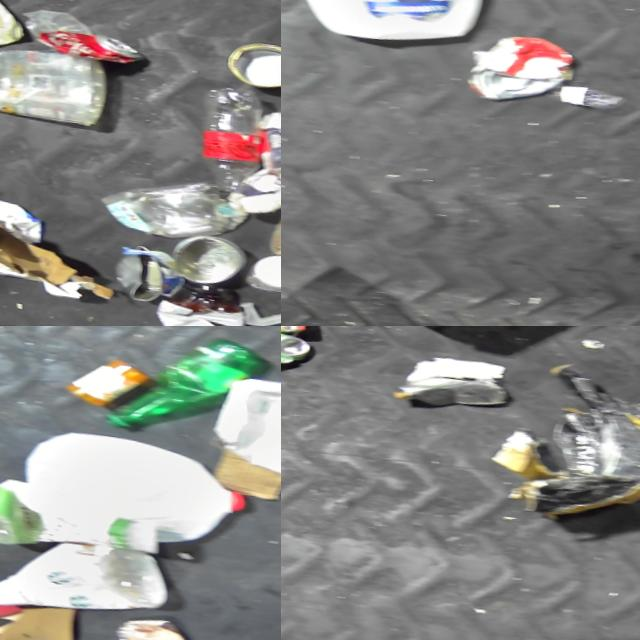can: (462, 29, 579, 112), (393, 363, 510, 419), (64, 352, 151, 416), (164, 232, 246, 290), (34, 25, 140, 67), (0, 470, 54, 550), (109, 244, 172, 308), (281, 326, 312, 377)
milk_jug: (13, 425, 254, 563), (0, 527, 174, 627), (293, 0, 493, 56)
plastic_bottle: (97, 326, 259, 448), (187, 88, 276, 208)
